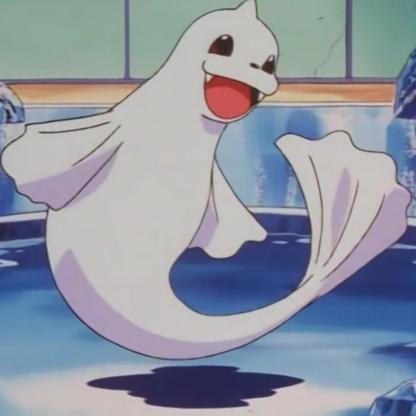Dewgong: (5, 1, 416, 367)
